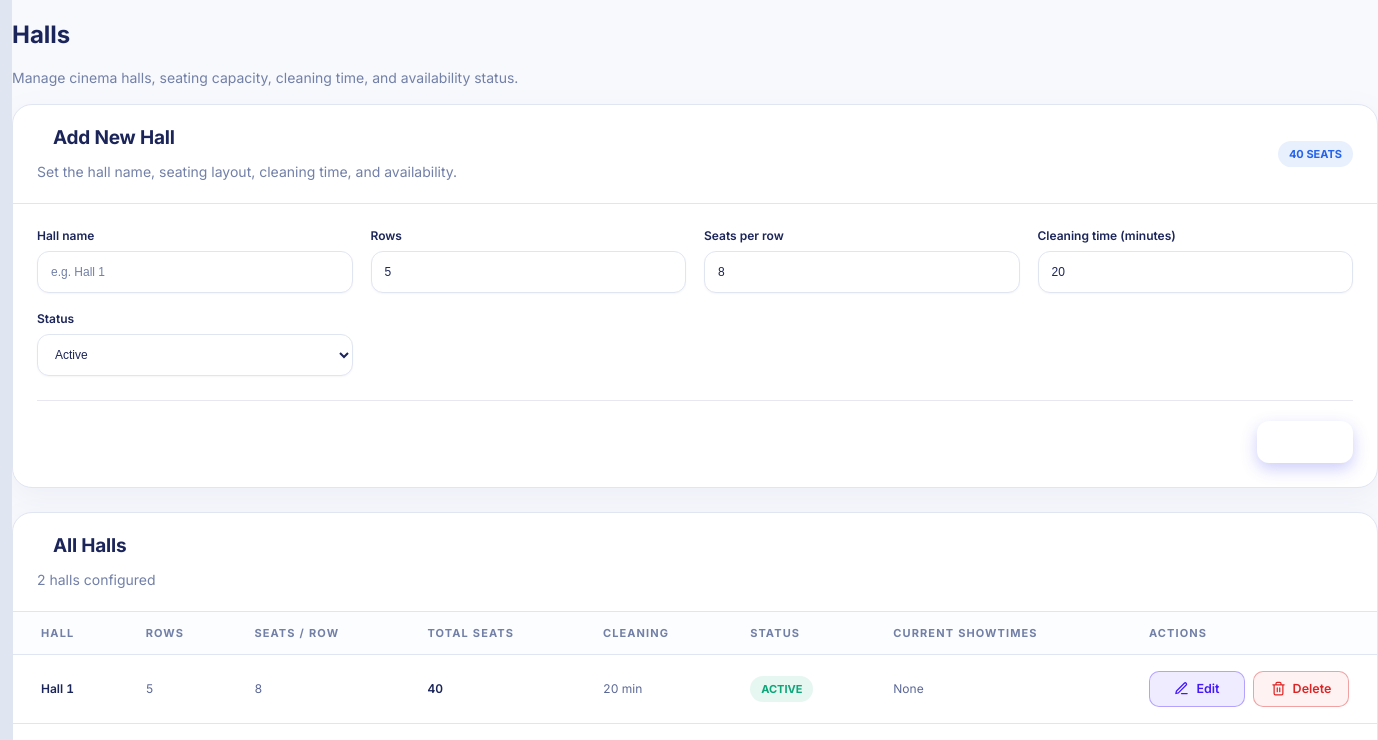
Test: Halls Admin Page › should update the seat preview when the seating layout changes
Expected: the text "Hall 1" is shown, [13,655,126,724]
Replace the text in the number field labelled "Rows" with "6". click: (528, 272)
box: [370,251,686,293]
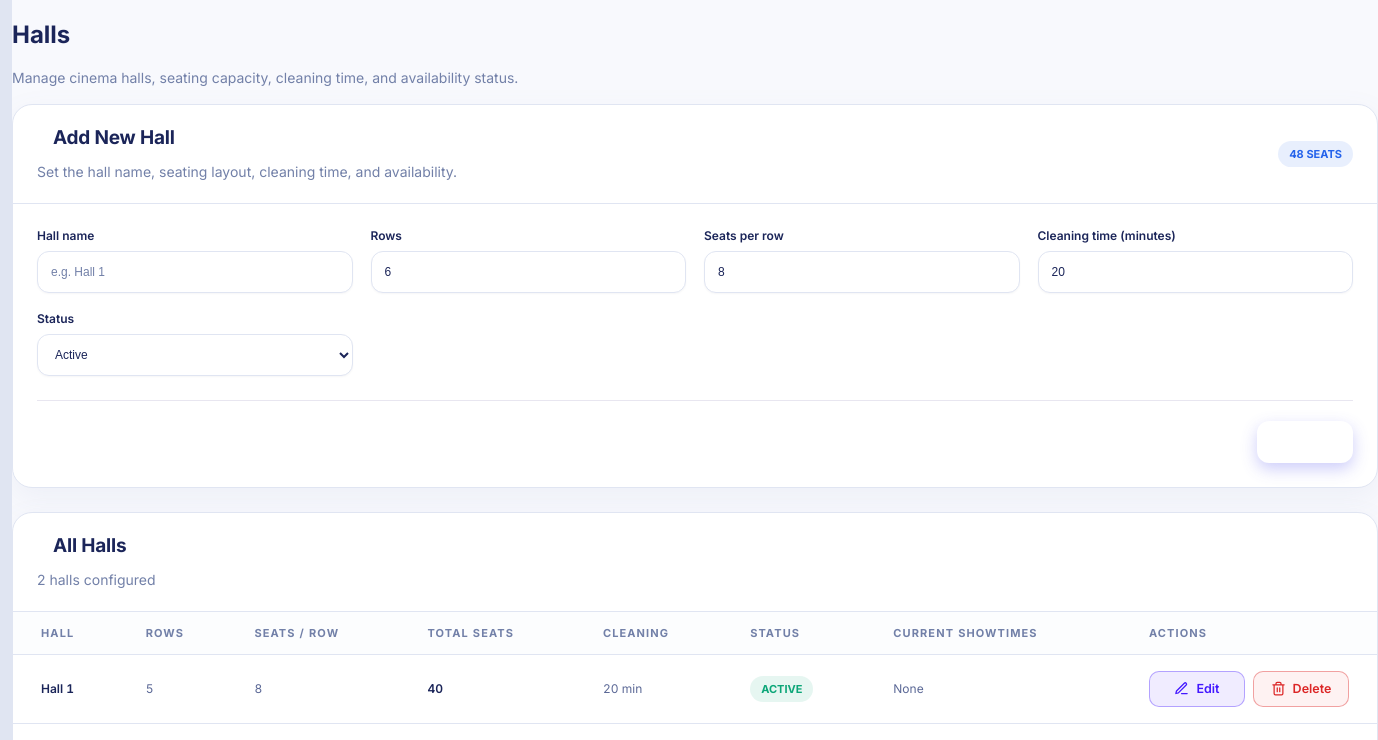
Replace the text in the number field labelled "Seats per row" with "10". click: (862, 272)
box: [704,251,1020,293]
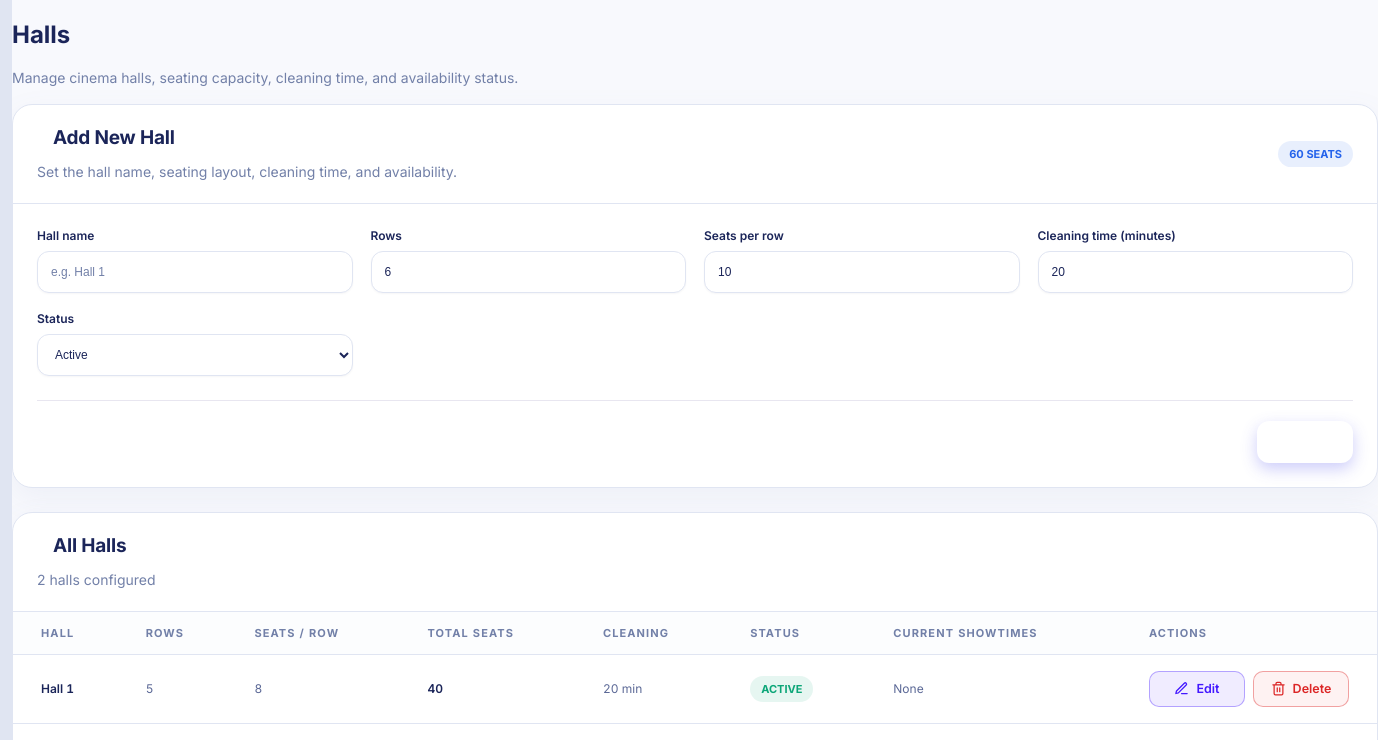
Now the text "60 seats" is shown, box [1278,141,1353,167]
